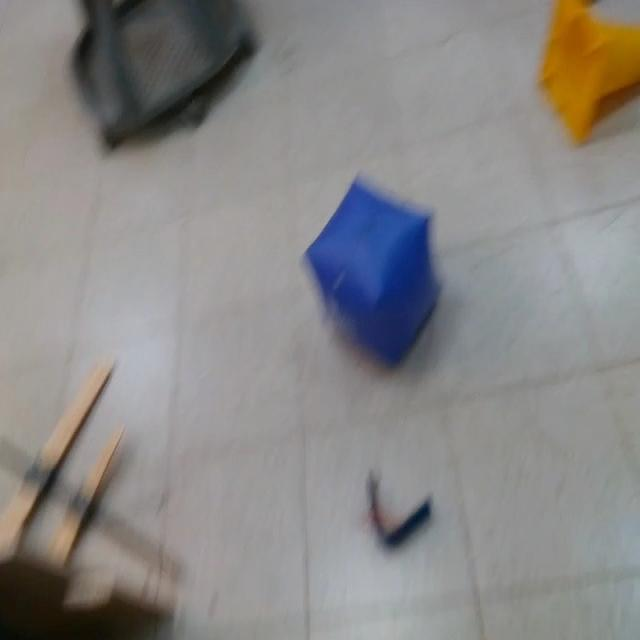cone: (534, 0, 640, 141)
cube: (306, 171, 444, 369)
